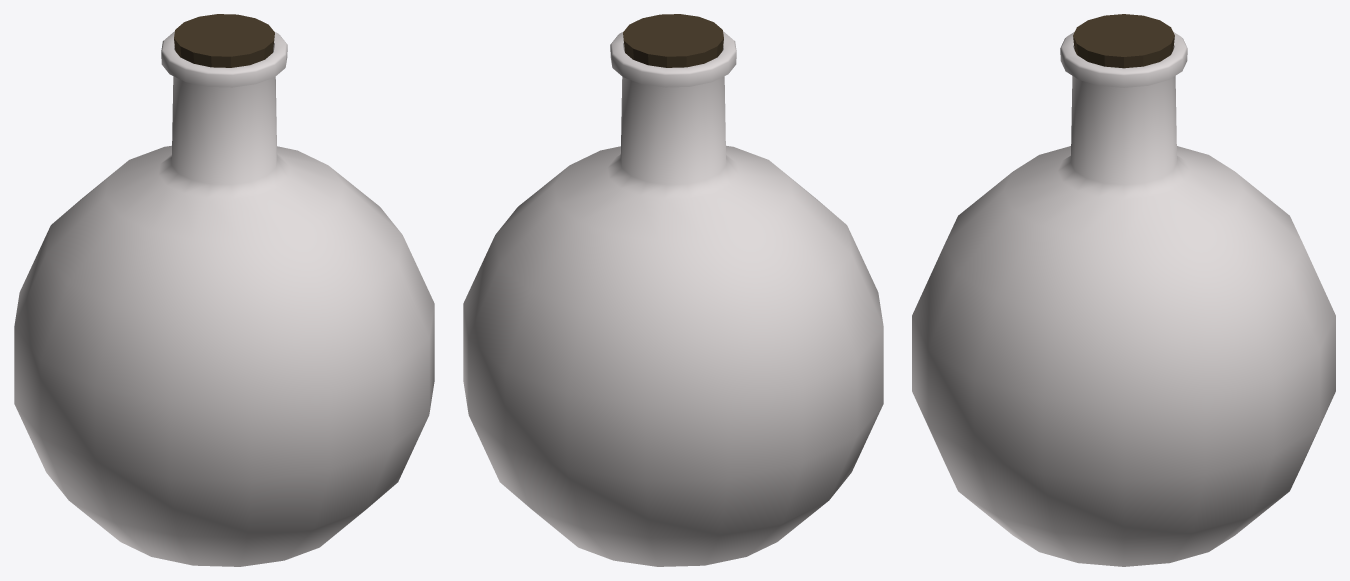
Rendered from PotionBase.fbx.
3 renders of one model, left to right at view 1: azimuth 30°, elevation 25°; view 2: azimuth 150°, elevation 25°; view 3: azimuth 270°, elevation 25°, orthographic.
Visible parts, largest first — view 1: Potion; view 2: Potion; view 3: Potion.
Part boxes in pixels (x1,y1,x2,y2): Potion: (14,14,434,566); Potion: (463,14,883,566); Potion: (912,14,1335,566).
Bounding box in the file's own units: 161 × 214 × 161.
